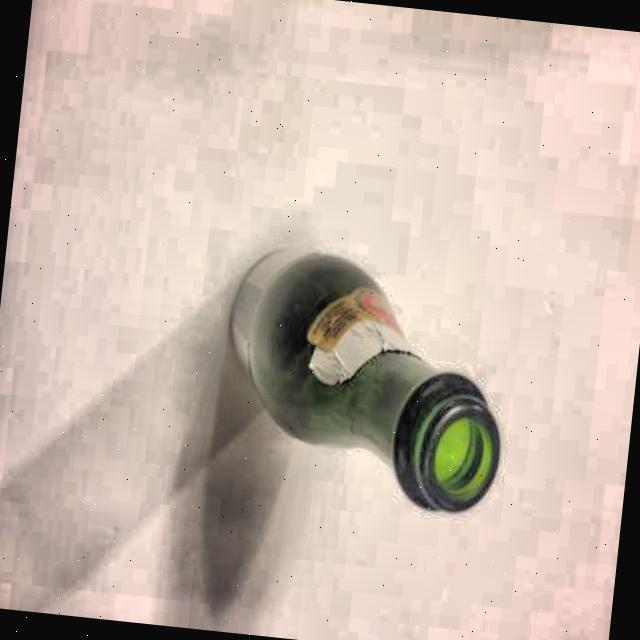glass: (208, 240, 520, 520)
